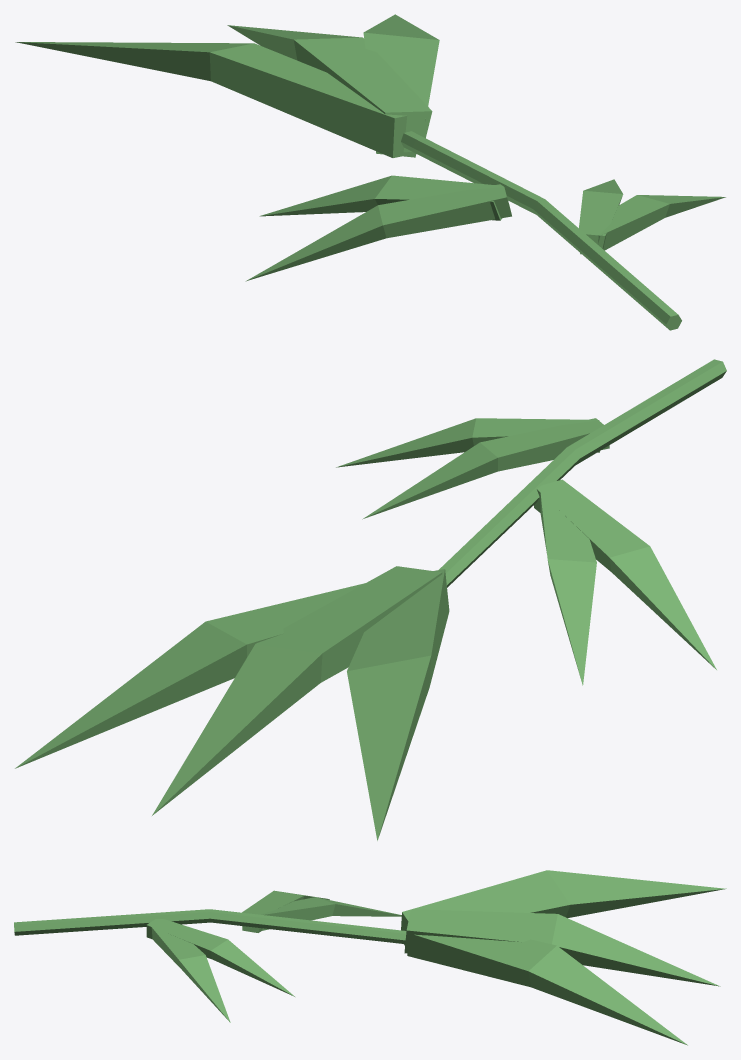
The model's file is bamboo-leaf1.FBX.
3 renders of one model, top to bottom at view 1: azimuth 30°, elevation 25°; view 2: azimuth 150°, elevation 25°; view 3: azimuth 270°, elevation 25°, orthographic. The views are drawn at different scales.
Parts seen in each view (by area): view 1: bamboo-leaf1; view 2: bamboo-leaf1; view 3: bamboo-leaf1.
Part boxes in pixels (x1,y1,x2,y2): bamboo-leaf1: (15, 14, 725, 330); bamboo-leaf1: (15, 359, 726, 840); bamboo-leaf1: (14, 870, 726, 1045).
Size of the model in its own units: 28.62 by 6.69 by 58.
